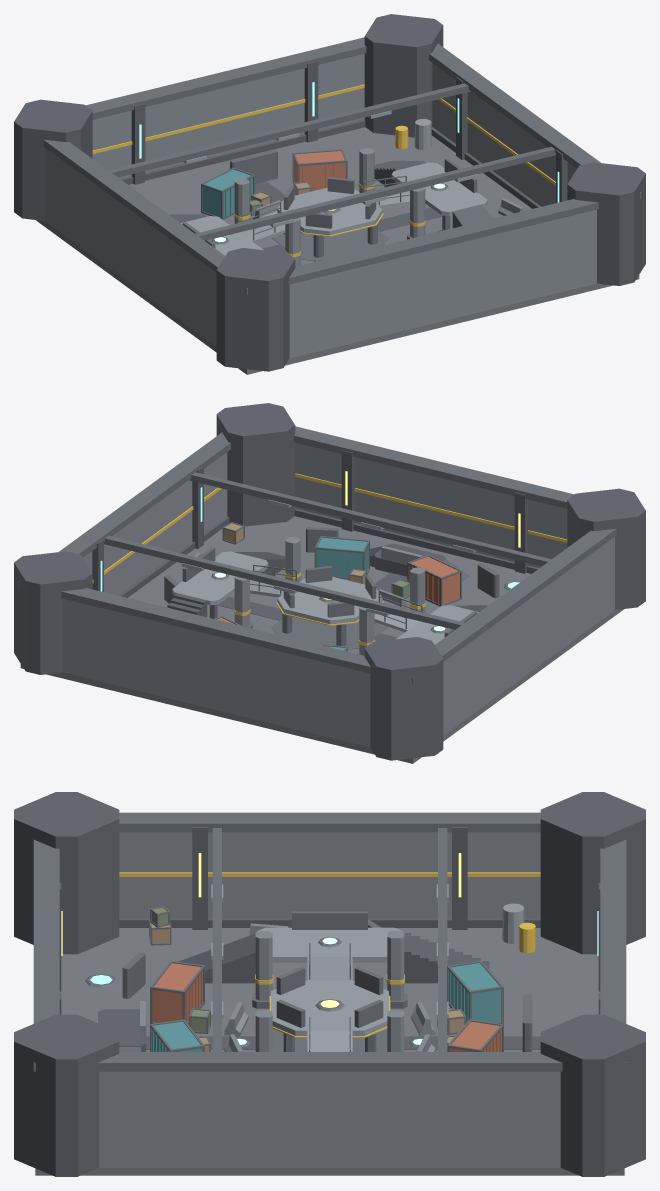
The model's file is fps_arena.glb.
The picture shows the model from 3 angles, top to bottom: view 1: azimuth 30°, elevation 25°; view 2: azimuth 150°, elevation 25°; view 3: azimuth 270°, elevation 25°; orthographic projection. The views are drawn at different scales.
Parts seen in each view (by area): view 1: Wall_South, Wall_North, Wall_West, Arena_Floor, Bastion_SW, Bastion_NE, Bastion_SE, Wall_East, Bastion_NW, Cornice_South, Cornice_North, Cornice_West (+25 smaller); view 2: Wall_North, Wall_South, Wall_West, Arena_Floor, Bastion_NW, Bastion_SE, Bastion_NE, Wall_East, Bastion_SW, Cornice_North, Cornice_South, Cornice_West (+25 smaller); view 3: Wall_East, Wall_West, Arena_Floor, Bastion_NE, Bastion_SE, Bastion_NW, Bastion_SW, Cornice_East, Cornice_West, Cornice_North, Cornice_South, Center_Hub_Deck (+32 smaller).
Part boxes in pixels (x1,y1,x2,y2): Wall_South: [289, 209, 596, 358]; Wall_North: [92, 53, 364, 178]; Wall_West: [45, 148, 216, 346]; Arena_Floor: [36, 127, 639, 374]; Bastion_SW: [216, 248, 295, 371]; Bastion_NE: [364, 14, 443, 137]; Bastion_SE: [567, 162, 645, 285]; Wall_East: [432, 63, 576, 206]; Bastion_NW: [14, 99, 92, 220]; Cornice_South: [245, 192, 641, 294]; Cornice_North: [85, 37, 366, 119]; Cornice_West: [43, 139, 247, 294]; Wall_North: [63, 598, 370, 747]; Wall_South: [295, 442, 567, 567]; Wall_West: [443, 537, 614, 735]; Arena_Floor: [20, 516, 623, 763]; Bastion_NW: [364, 637, 443, 760]; Bastion_SE: [216, 403, 295, 526]; Bastion_NE: [14, 551, 92, 674]; Wall_East: [83, 452, 227, 595]; Bastion_SW: [567, 488, 645, 609]; Cornice_North: [18, 581, 414, 683]; Cornice_South: [293, 426, 574, 508]; Cornice_West: [412, 528, 616, 683]; Wall_East: [99, 1071, 560, 1167]; Wall_West: [119, 832, 540, 918]; Arena_Floor: [35, 928, 624, 1175]; Bastion_NE: [540, 1014, 645, 1176]; Bastion_SE: [14, 1014, 119, 1176]; Bastion_NW: [540, 792, 645, 954]; Bastion_SW: [14, 792, 119, 954]; Cornice_East: [33, 1052, 626, 1071]; Cornice_West: [119, 812, 540, 832]; Cornice_North: [600, 839, 626, 1071]; Cornice_South: [33, 839, 59, 1071]; Center_Hub_Deck: [271, 980, 388, 1035].
Bounding box in the file's own units: 36.48 × 8 × 36.48.
